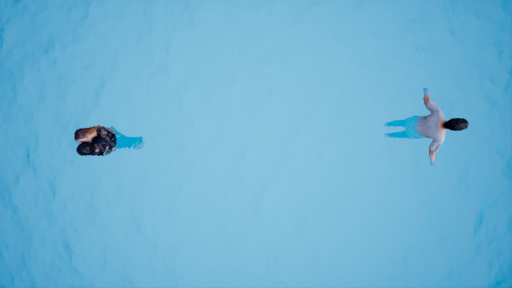person: (383, 84, 470, 170), (72, 120, 148, 161)
